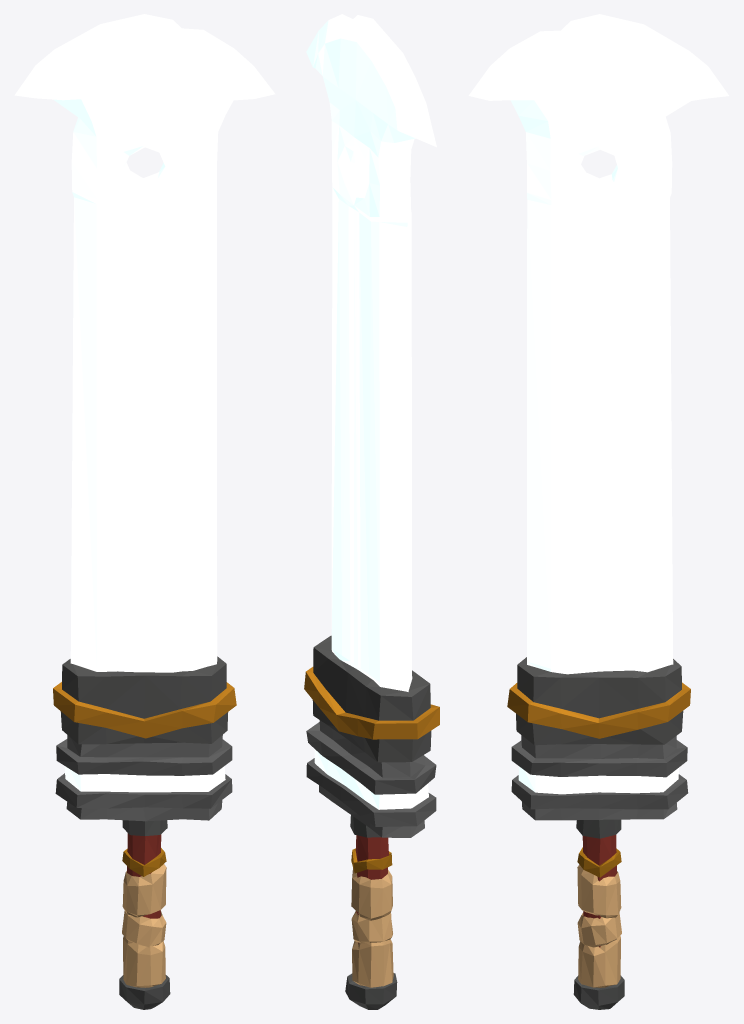
The model's file is SFFA_Weapon_Longsword_Runical_002.fbx.
The picture shows the model from 3 angles, left to right: view 1: azimuth 90°, elevation 25°; view 2: azimuth 210°, elevation 25°; view 3: azimuth 270°, elevation 25°; orthographic projection.
Visible parts, largest first — view 1: SFFA_Weapon_Longsword_Runical_002; view 2: SFFA_Weapon_Longsword_Runical_002; view 3: SFFA_Weapon_Longsword_Runical_002.
Part boxes in pixels (x1=…): SFFA_Weapon_Longsword_Runical_002: x1=14, y1=14, x2=275, y2=1009; SFFA_Weapon_Longsword_Runical_002: x1=304, y1=14, x2=439, y2=1009; SFFA_Weapon_Longsword_Runical_002: x1=468, y1=14, x2=728, y2=1009.
Size of the model in its own units: 11.23 by 153 by 36.59.
